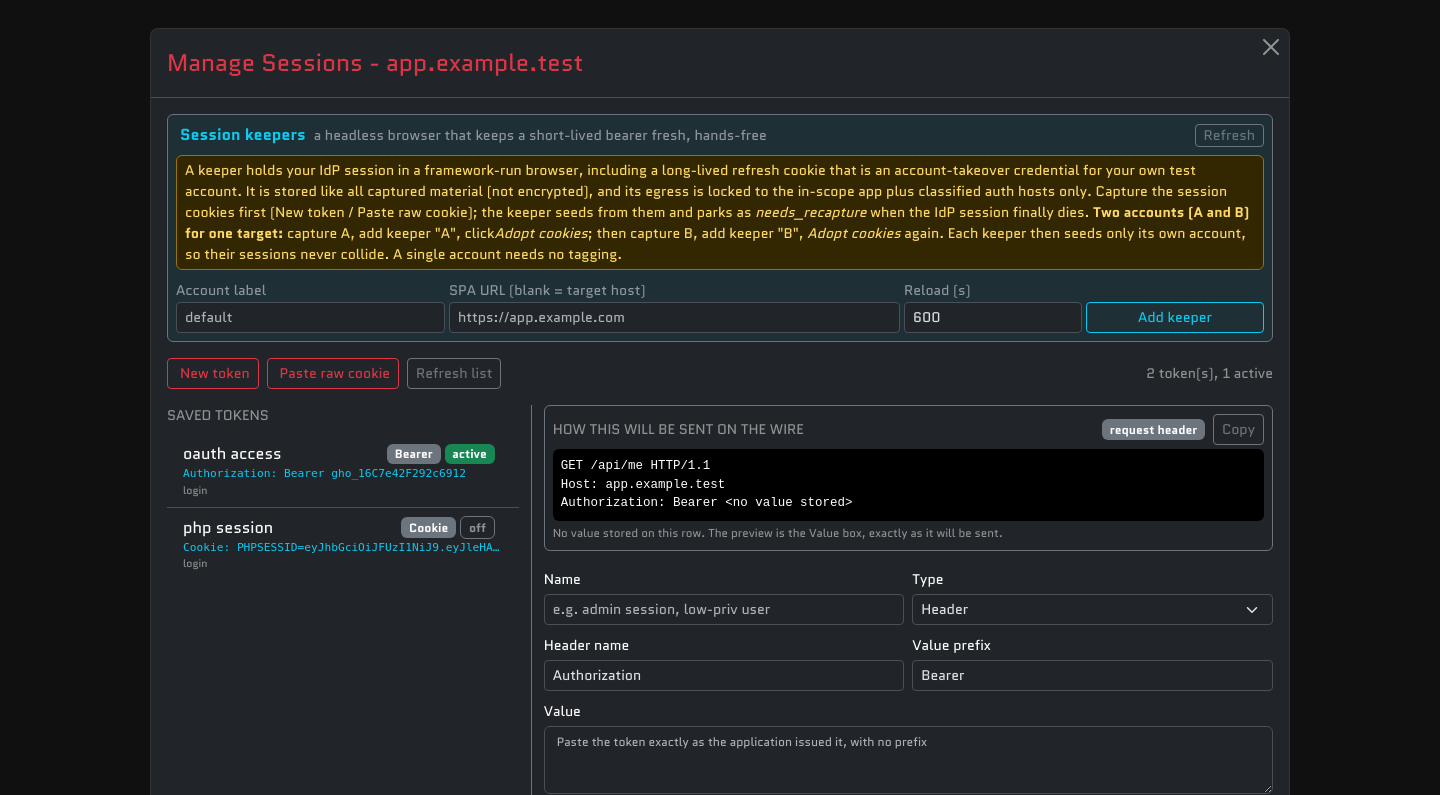
Test: opening a stored token for editing puts its credential in the Value box
This screenshot has width=1440, height=795.
Click the button with class "list-group-item" that starts with "oauth access": point(343, 471) x1=167 y1=434 x2=519 y2=508
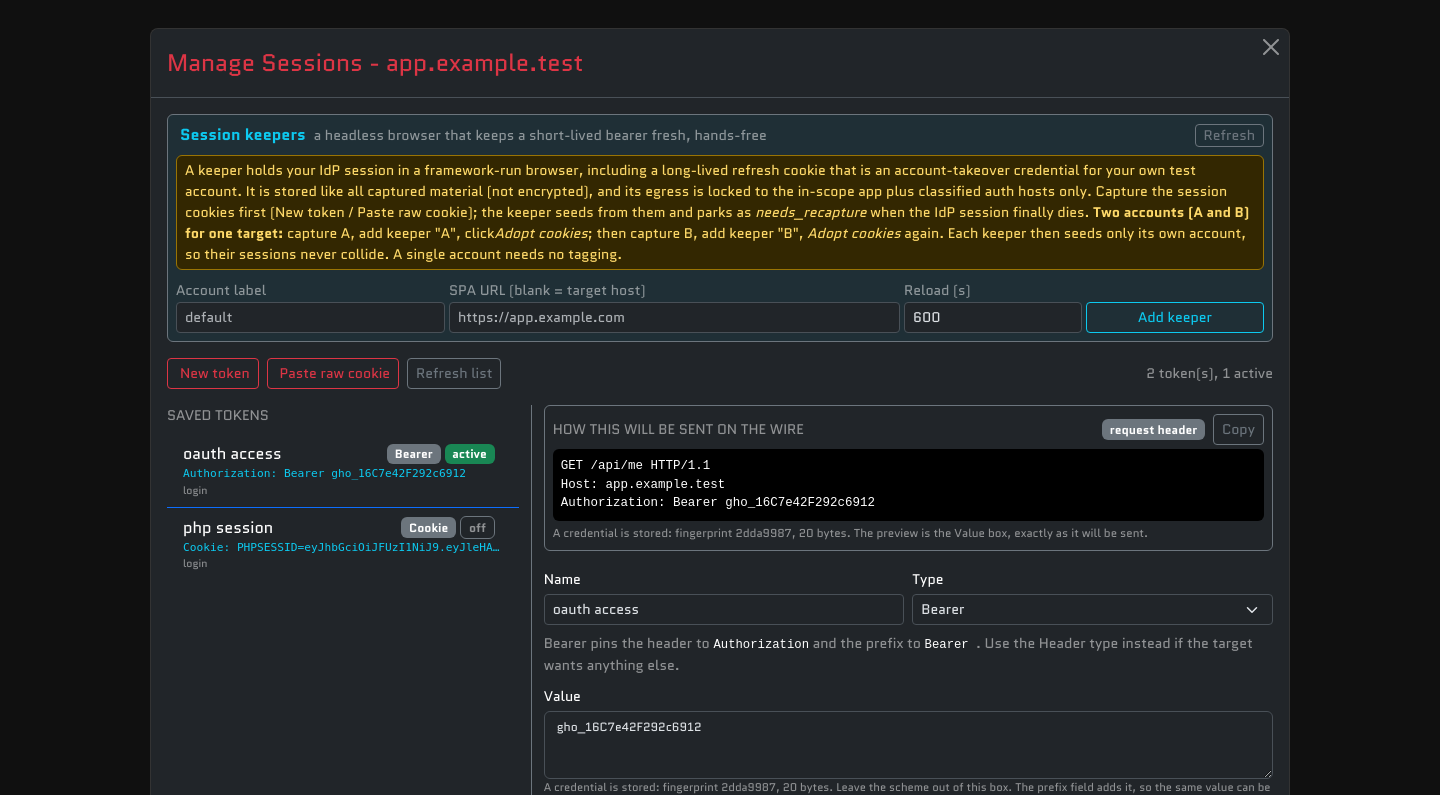
Check: the text box holds "gho_16C7e42F292c6912", box x1=544 y1=711 x2=1273 y2=779
